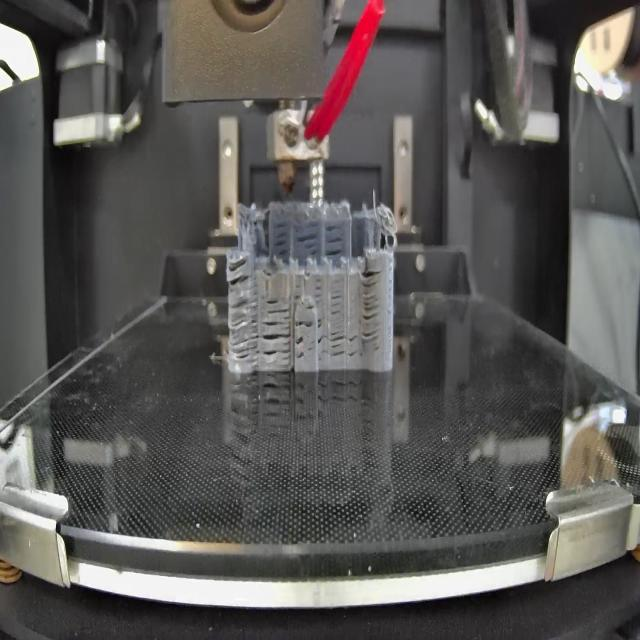cracks: (261, 296, 291, 366), (229, 298, 259, 361), (360, 268, 382, 345), (294, 221, 320, 258), (330, 329, 360, 361), (274, 220, 292, 258), (228, 257, 251, 286), (326, 223, 344, 259), (332, 280, 344, 316), (317, 317, 326, 360), (295, 314, 315, 332), (314, 278, 323, 304), (297, 335, 305, 363), (294, 277, 302, 300), (306, 303, 314, 311)
